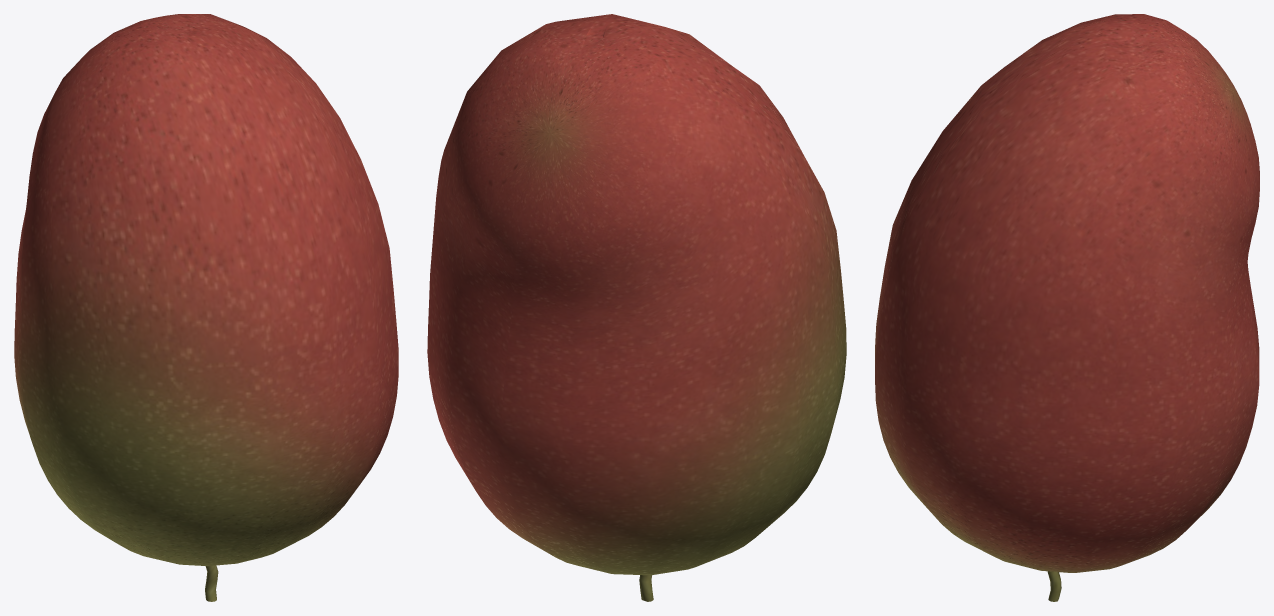
The model's file is Mango 1.FBX.
3 renders of one model, left to right at view 1: azimuth 30°, elevation 25°; view 2: azimuth 150°, elevation 25°; view 3: azimuth 270°, elevation 25°, orthographic. The views are drawn at different scales.
Parts seen in each view (by area): view 1: Sphere001; view 2: Sphere001; view 3: Sphere001.
Boxes of the visible parts, x1=… form: Sphere001: x1=14, y1=14, x2=398, y2=601; Sphere001: x1=427, y1=14, x2=846, y2=601; Sphere001: x1=875, y1=14, x2=1259, y2=601.
Bounding box in the file's own units: 103 × 163 × 100.
